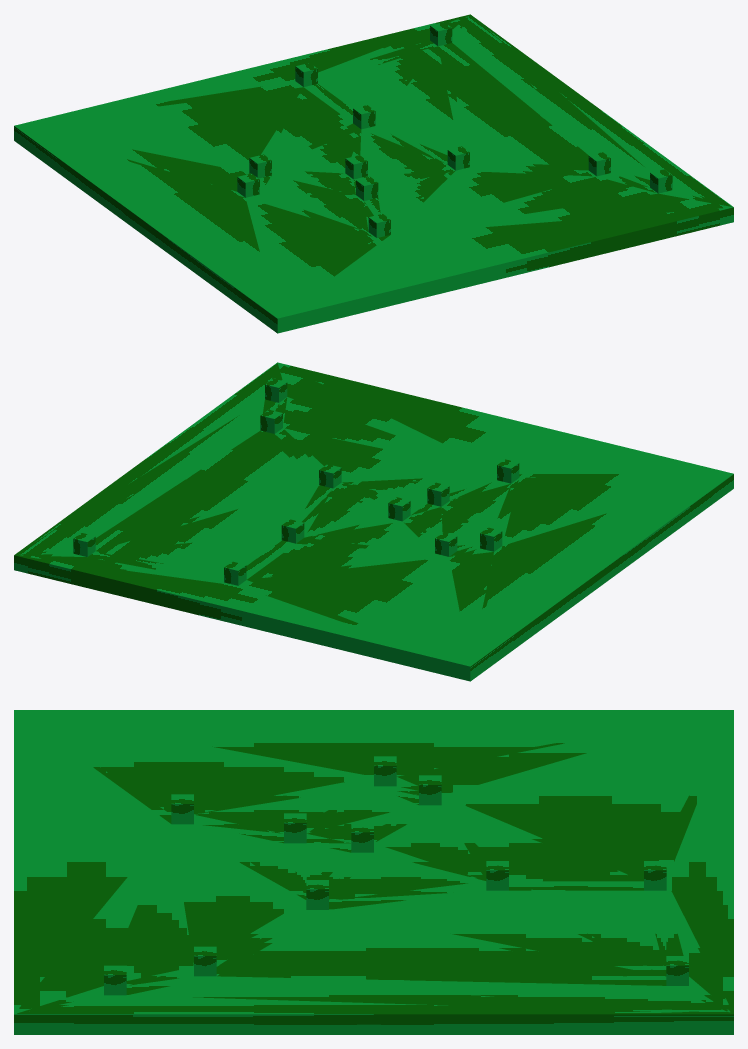
The model's file is env_grass1a.fbx.
3 renders of one model, top to bottom at view 1: azimuth 30°, elevation 25°; view 2: azimuth 150°, elevation 25°; view 3: azimuth 270°, elevation 25°, orthographic. The views are drawn at different scales.
Visible parts, largest first — view 1: env_grass1a; view 2: env_grass1a; view 3: env_grass1a.
Boxes of the visible parts, x1,y1,x2,y2 form: env_grass1a: [14, 14, 733, 333]; env_grass1a: [14, 362, 733, 681]; env_grass1a: [14, 710, 733, 1034].
Size of the model in its own units: 3.2 by 3.2 by 0.2.
